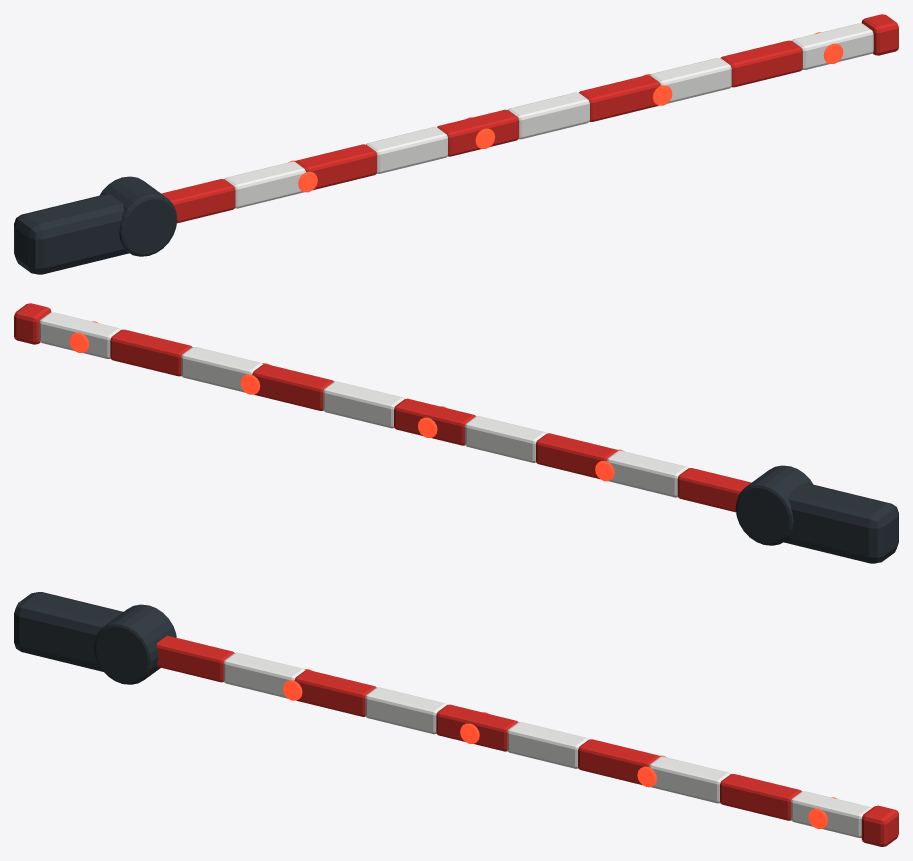
The model's file is SM_SolCity_LevelCrossingBarrierBoom_01.fbx.
3 views of the same model, one above another, from view 1: azimuth 30°, elevation 25°; view 2: azimuth 150°, elevation 25°; view 3: azimuth 330°, elevation 25° (orthographic).
Parts seen in each view (by area): view 1: SM_SolCity_LevelCrossingBarrierBoom_01; view 2: SM_SolCity_LevelCrossingBarrierBoom_01; view 3: SM_SolCity_LevelCrossingBarrierBoom_01.
Boxes of the visible parts, box(x1,y1,x2,y2) form: SM_SolCity_LevelCrossingBarrierBoom_01: box(14, 14, 898, 274); SM_SolCity_LevelCrossingBarrierBoom_01: box(14, 303, 898, 563); SM_SolCity_LevelCrossingBarrierBoom_01: box(14, 592, 898, 846).
Size of the model in its own units: 6.88 by 0.38 by 0.46.
